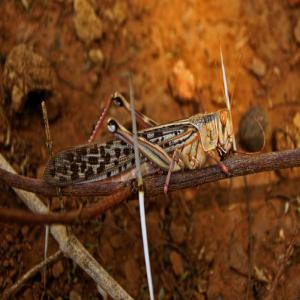locust: (38, 74, 244, 216)
